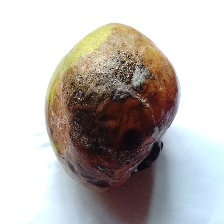guava: (9, 27, 210, 177)
